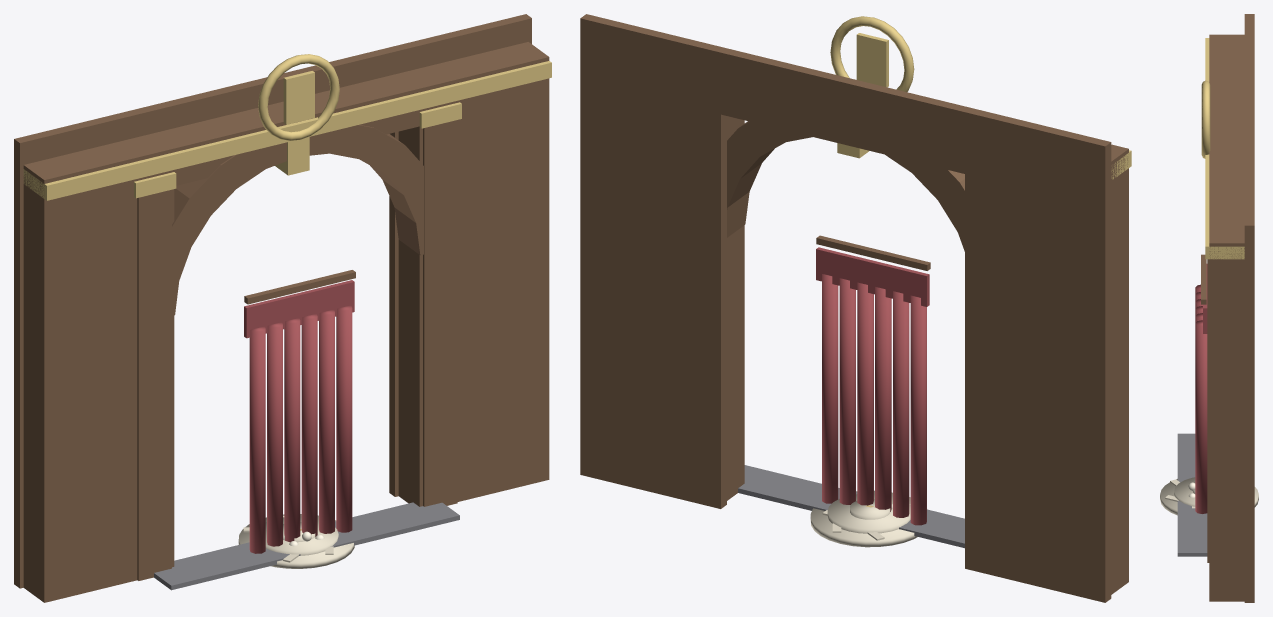
Rendered from salon.glb.
3 renders of one model, left to right at view 1: azimuth 30°, elevation 25°; view 2: azimuth 150°, elevation 25°; view 3: azimuth 270°, elevation 25°, orthographic. The views are drawn at different scales.
Visible parts, largest first — view 1: Wood_shoulderL, Wood_shoulderR, Wood_pilL, Wood_pilR, Wood_arch, Wood_field, Gilt_cornice, Wood_backL, Wood_backR, Marble_threshold, Wood_backHdr, Velvet_pleat.005 (+15 smaller); view 2: Wood_backL, Wood_backR, Wood_backHdr, Wood_shoulderL, Wood_arch, Wood_shoulderR, Marble_threshold, Velvet_pleat, Velvet_pleat.005, Velvet_pleat.001, Velvet_pleat.004, Velvet_pleat.002 (+7 smaller); view 3: Wood_shoulderR, Wood_field, Wood_backR, Velvet_pleat.005, Marble_threshold, Wood_shoulderL, Gilt_cornice, Wood_backHdr, Wood_pilR, Gilt_crest, Wood_backL, Plaster_medOuter (+3 smaller).
Boxes of the visible parts, <box> form: Wood_shoulderL: <box>23,133,174,602</box>; Wood_shoulderR: <box>398,42,549,506</box>; Wood_pilL: <box>137,189,171,580</box>; Wood_pilR: <box>423,120,457,506</box>; Wood_arch: <box>172,125,423,315</box>; Wood_field: <box>23,42,549,183</box>; Gilt_cornice: <box>23,61,551,200</box>; Wood_backL: <box>14,106,156,588</box>; Wood_backR: <box>389,14,531,496</box>; Marble_threshold: <box>154,502,459,590</box>; Wood_backHdr: <box>141,47,394,134</box>; Velvet_pleat.005: <box>336,305,352,532</box>; Wood_backL: <box>965,108,1111,602</box>; Wood_backR: <box>580,14,726,508</box>; Wood_backHdr: <box>709,45,981,176</box>; Wood_shoulderL: <box>1111,145,1128,594</box>; Wood_arch: <box>727,121,964,251</box>; Wood_shoulderR: <box>727,116,744,500</box>; Marble_threshold: <box>738,465,964,548</box>; Velvet_pleat: <box>910,295,926,525</box>; Velvet_pleat.005: <box>822,274,838,503</box>; Velvet_pleat.001: <box>893,291,909,517</box>; Velvet_pleat.004: <box>839,278,855,504</box>; Velvet_pleat.002: <box>875,287,891,511</box>; Wood_shoulderR: <box>1209,189,1244,601</box>; Wood_field: <box>1209,34,1244,246</box>; Wood_backR: <box>1244,169,1254,602</box>; Velvet_pleat.005: <box>1195,320,1207,513</box>; Marble_threshold: <box>1177,433,1207,556</box>; Wood_shoulderL: <box>1209,34,1244,88</box>; Gilt_cornice: <box>1205,38,1244,259</box>; Wood_backHdr: <box>1244,70,1254,173</box>; Wood_pilR: <box>1207,259,1209,562</box>; Gilt_crest: <box>1201,80,1210,158</box>; Wood_backL: <box>1244,14,1254,70</box>; Plaster_medOuter: <box>1160,479,1258,515</box>.
Bounding box in the file's own units: 7.1 × 6.61 × 1.4.
